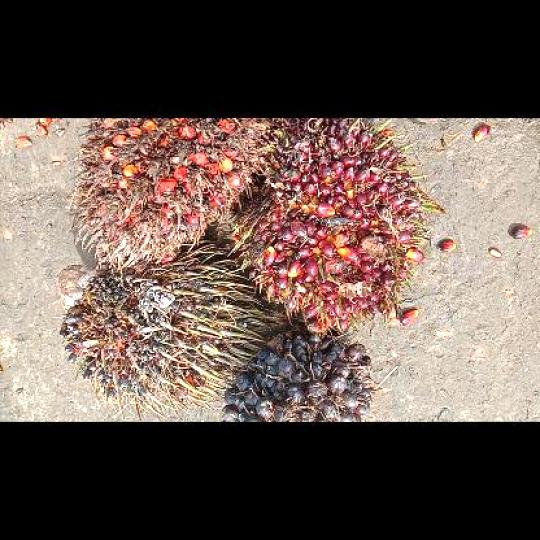masak: (235, 118, 430, 331)
terlalu masak: (77, 120, 271, 264)
